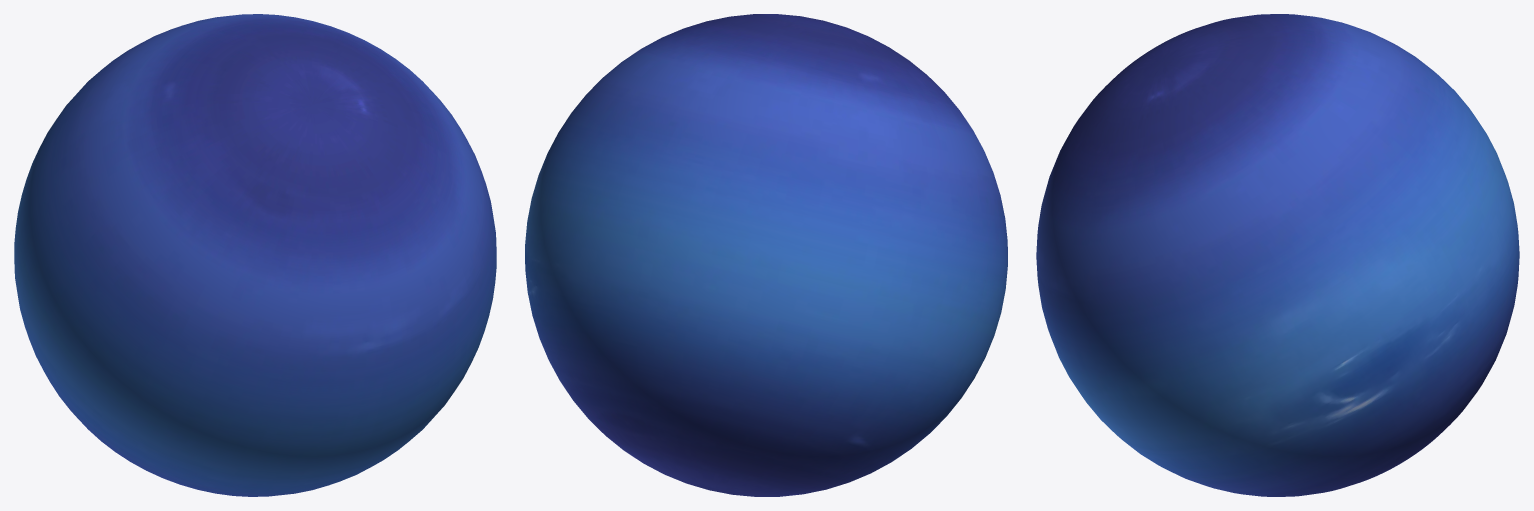
The model's file is Neptune.glb.
The picture shows the model from 3 angles, left to right: view 1: azimuth 30°, elevation 25°; view 2: azimuth 150°, elevation 25°; view 3: azimuth 270°, elevation 25°; orthographic projection.
Parts seen in each view (by area): view 1: Neptune; view 2: Neptune; view 3: Neptune.
Part boxes in pixels (x1,y1,x2,y2): Neptune: (14,14,496,496); Neptune: (525,14,1007,496); Neptune: (1036,14,1519,496).
Size of the model in its own units: 3.1 by 3.1 by 3.1.
Materials: 1 (1 with a texture image).
